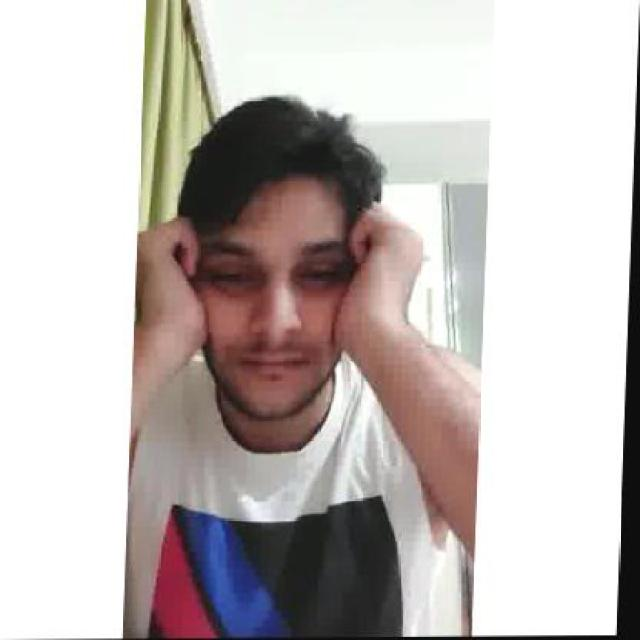inattentif: (174, 99, 363, 421)
